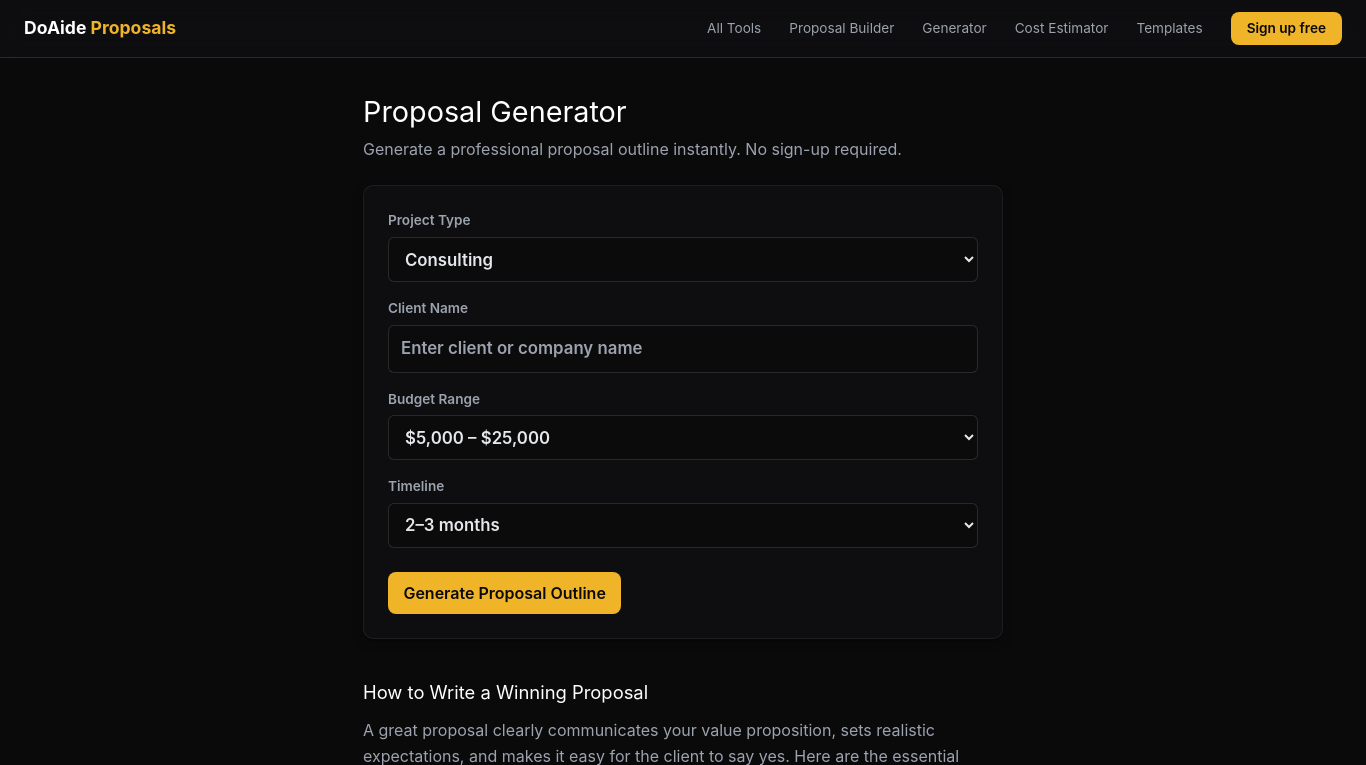
Test: GeneratorPage › generates an outline on button click
This screenshot has width=1366, height=765.
Click the button "Generate Proposal Outline": (505, 593) [388,572,621,614]
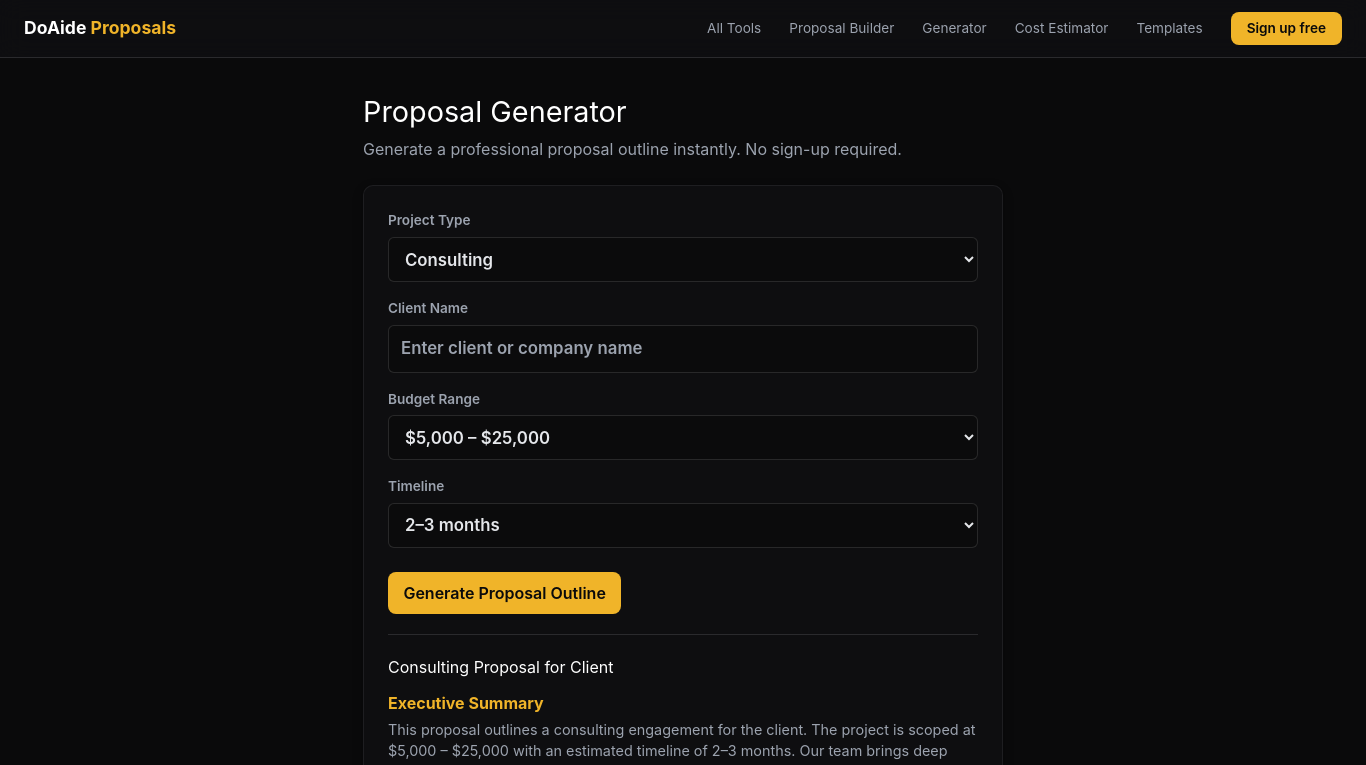
Expected: the text "Executive Summary" is shown, [388,693,544,713]
